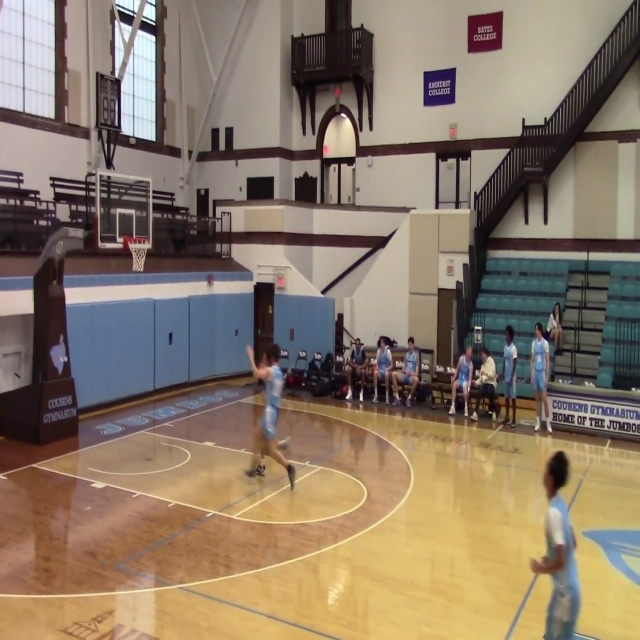Basketball: (258, 367, 272, 381)
